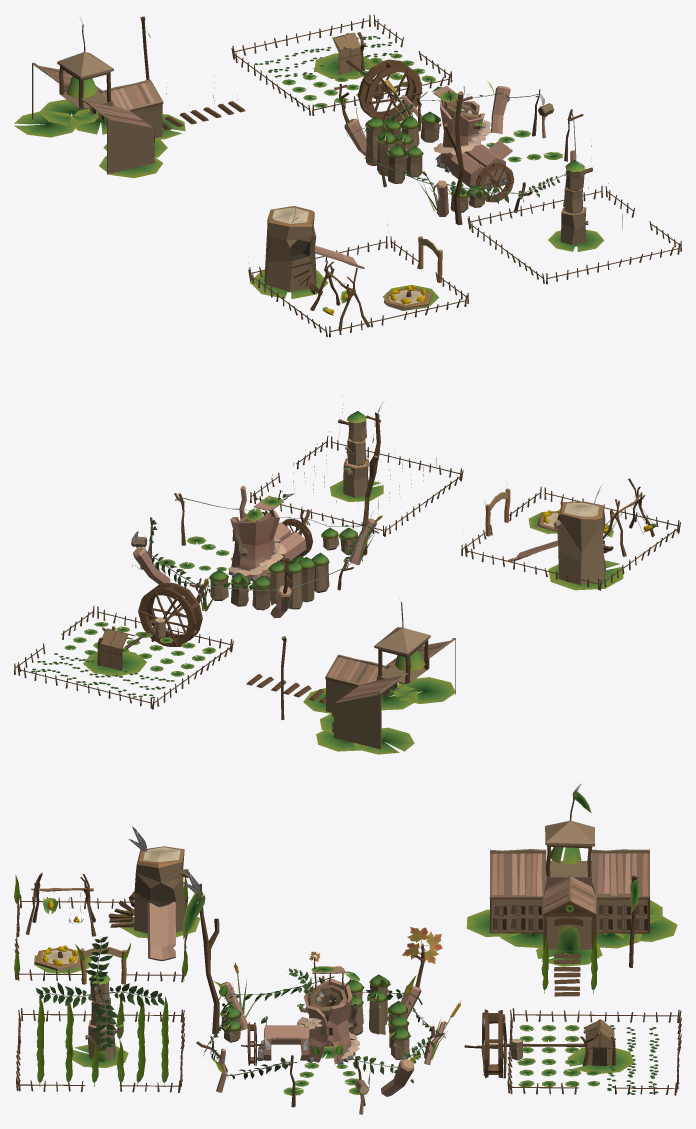
The picture shows the model from 3 angles, top to bottom: view 1: azimuth 30°, elevation 25°; view 2: azimuth 150°, elevation 25°; view 3: azimuth 270°, elevation 25°; orthographic projection. The views are drawn at different scales.
Parts seen in each view (by area): view 1: flag1.001, watermill.004, duckscarousel.002, watermillHouse.006; view 2: flag1.001, watermill.004; view 3: flag1.001, windmill.005, watermill.004, duckscarousel.002, nestStageWindmill_11.008.
Boxes of the visible parts, <box> form: flag1.001: <box>14,14,681,337</box>; watermill.004: <box>346,59,422,122</box>; duckscarousel.002: <box>384,285,431,310</box>; watermillHouse.006: <box>475,162,514,202</box>; flag1.001: <box>14,400,680,754</box>; watermill.004: <box>124,582,202,649</box>; flag1.001: <box>14,783,681,1114</box>; windmill.005: <box>36,936,164,1051</box>; watermill.004: <box>464,1009,584,1078</box>; duckscarousel.002: <box>35,945,85,970</box>; nestStageWindmill_11.008: <box>402,927,442,963</box>.
Size of the model in its own units: 12.73 by 4.76 by 17.14.
